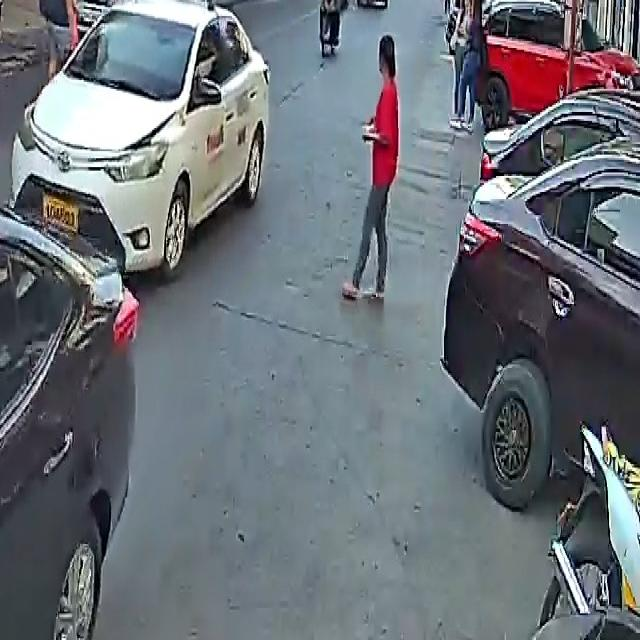car: (444, 71, 640, 535), (0, 124, 146, 640), (7, 0, 271, 284), (476, 0, 639, 126), (72, 0, 197, 28)
